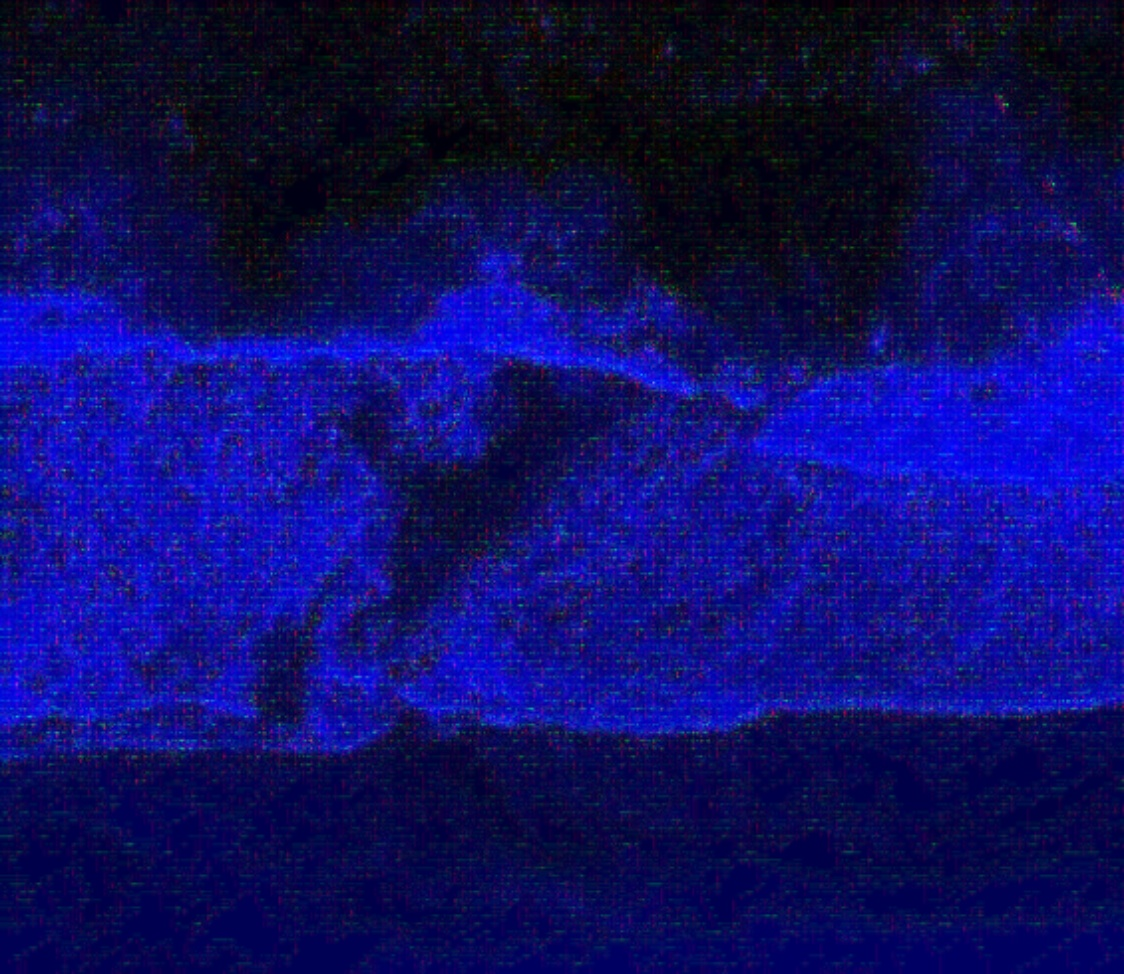rip_current: (273, 112, 700, 671)
